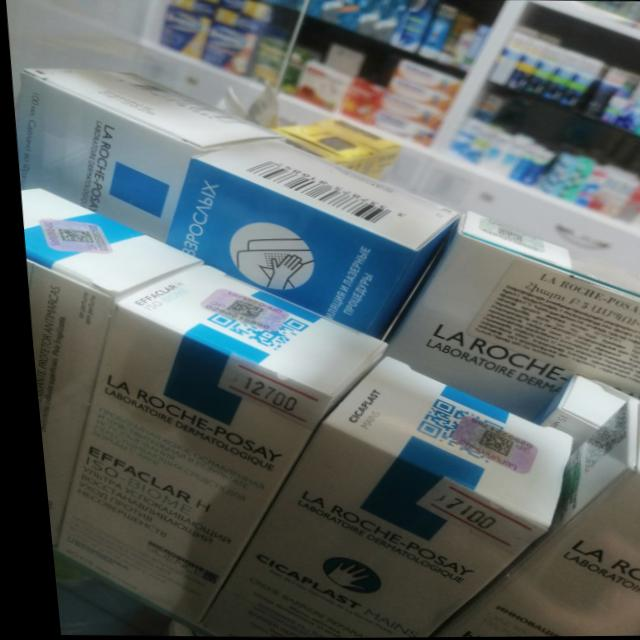datamatrix: (468, 429, 508, 458), (219, 298, 258, 322), (53, 227, 92, 246)
qrcode: (570, 402, 626, 477)
